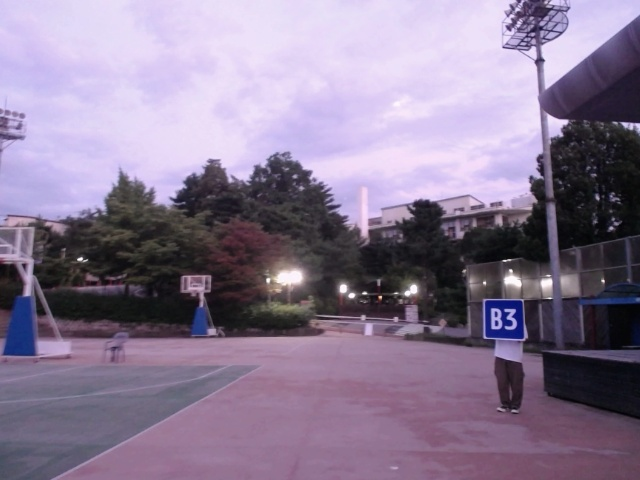delivery_b3: (483, 298, 527, 341)
